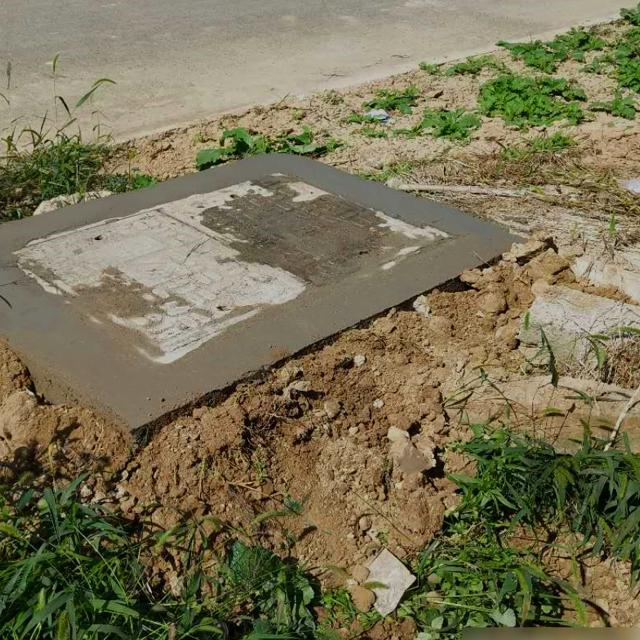good: (2, 168, 466, 374)
